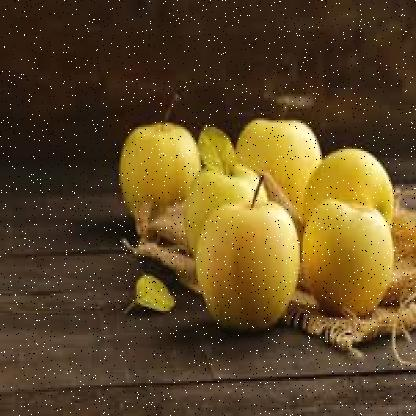apple: (194, 206, 292, 330), (302, 195, 402, 315), (235, 109, 320, 217), (119, 119, 208, 216), (311, 138, 397, 236), (176, 162, 270, 247)
